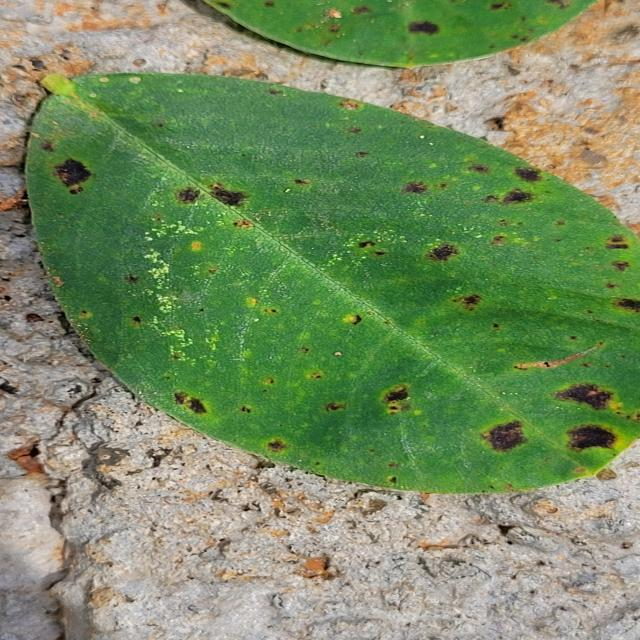Ground nut_tikka leaf spot: (34, 81, 640, 490)
